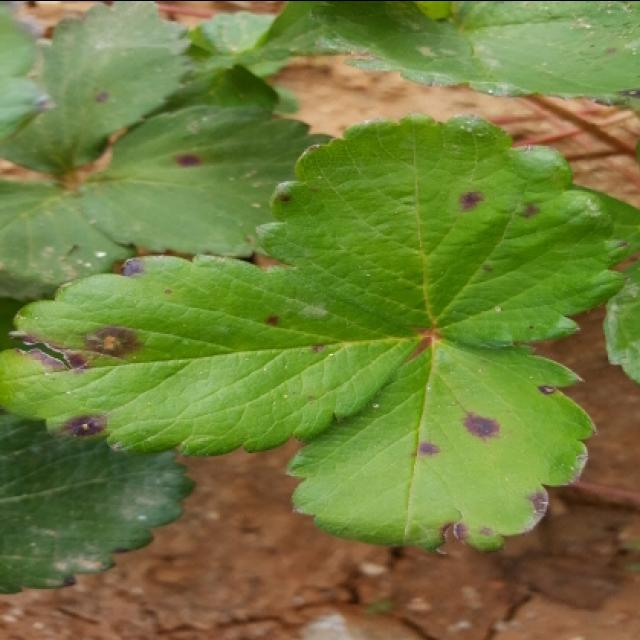Leaf Spot: (0, 252, 429, 457), (256, 111, 628, 346), (283, 332, 600, 559), (77, 104, 335, 258), (310, 0, 638, 121), (41, 0, 194, 137)
